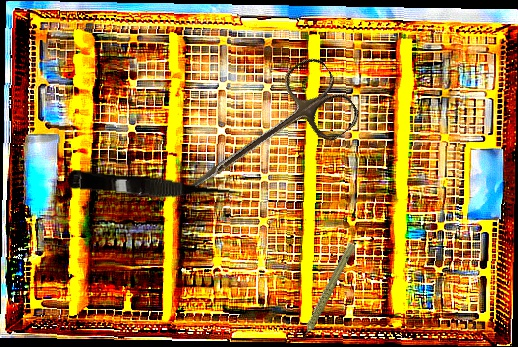Handpiece: (277, 241, 373, 346)
Iris Scissors: (159, 51, 365, 232)
Micro Scissor: (67, 169, 243, 207)
